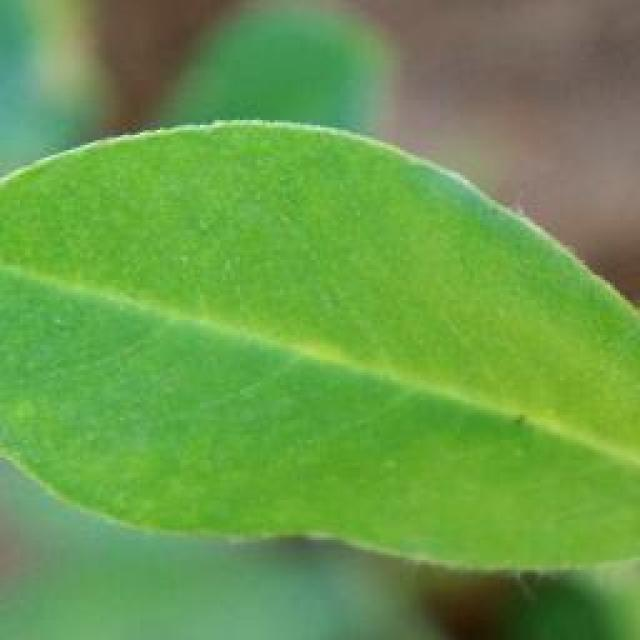Yellow_and_black_sigatoka: (1, 111, 640, 586)
